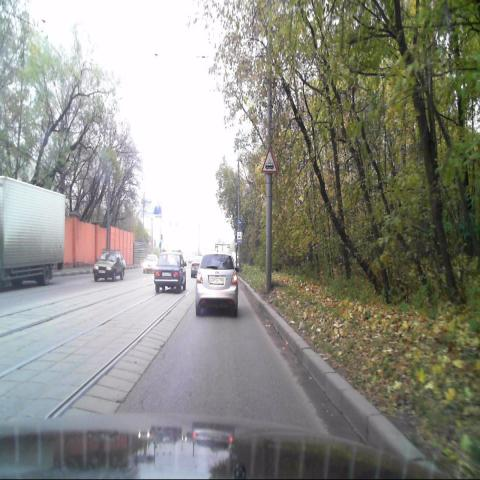1_5: (261, 148, 278, 174)
